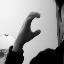c: (19, 10, 42, 40)
